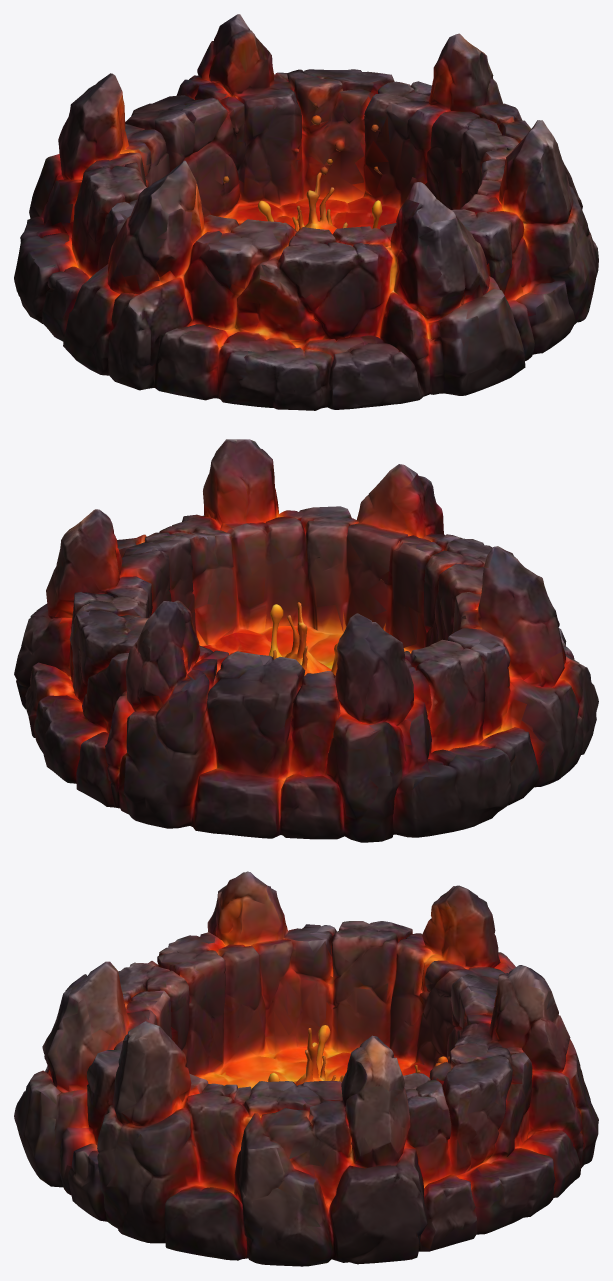
Rendered from LavaVent.fbx.
The picture shows the model from 3 angles, top to bottom: view 1: azimuth 30°, elevation 25°; view 2: azimuth 150°, elevation 25°; view 3: azimuth 270°, elevation 25°; orthographic projection.
Parts seen in each view (by area): view 1: LavaVent; view 2: LavaVent; view 3: LavaVent.
Part boxes in pixels (x1,y1,x2,y2): LavaVent: [14, 14, 598, 410]; LavaVent: [14, 439, 598, 842]; LavaVent: [14, 871, 598, 1266].
Bounding box in the file's own units: 240 × 90 × 240.
1 material, 1 textured.
